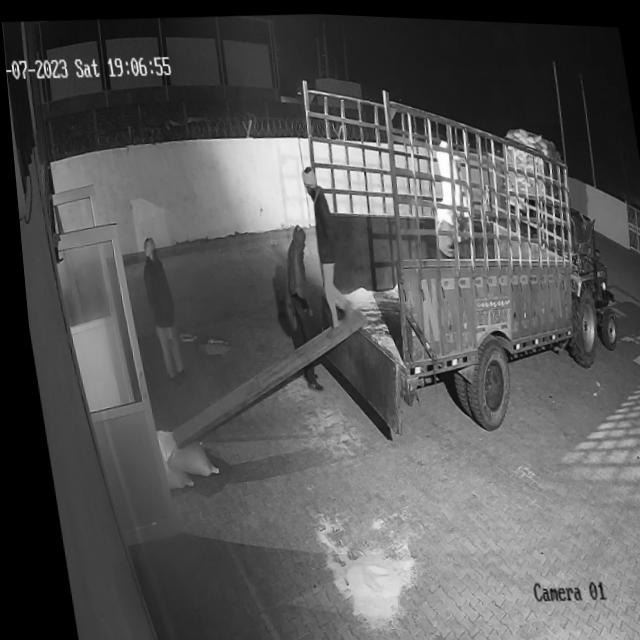sack: (147, 424, 209, 478)
